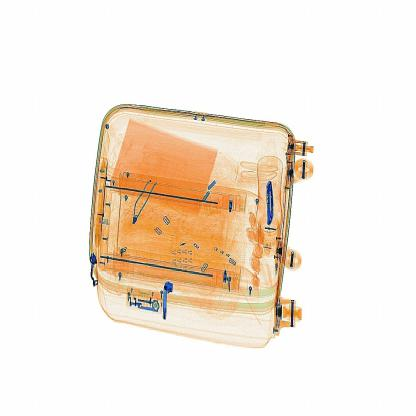knife: (260, 172, 281, 235)
